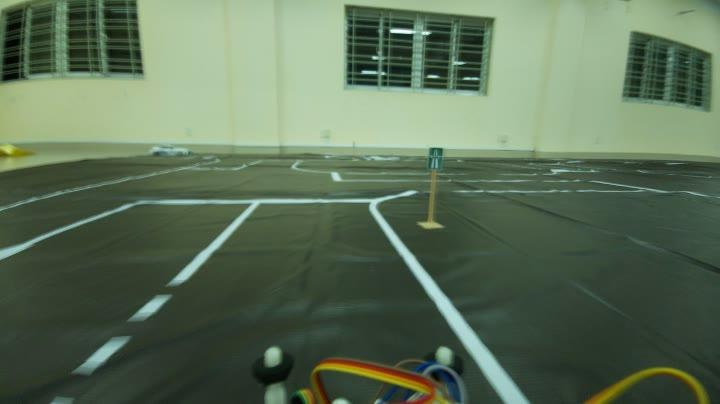highway_entry: (420, 141, 448, 172)
